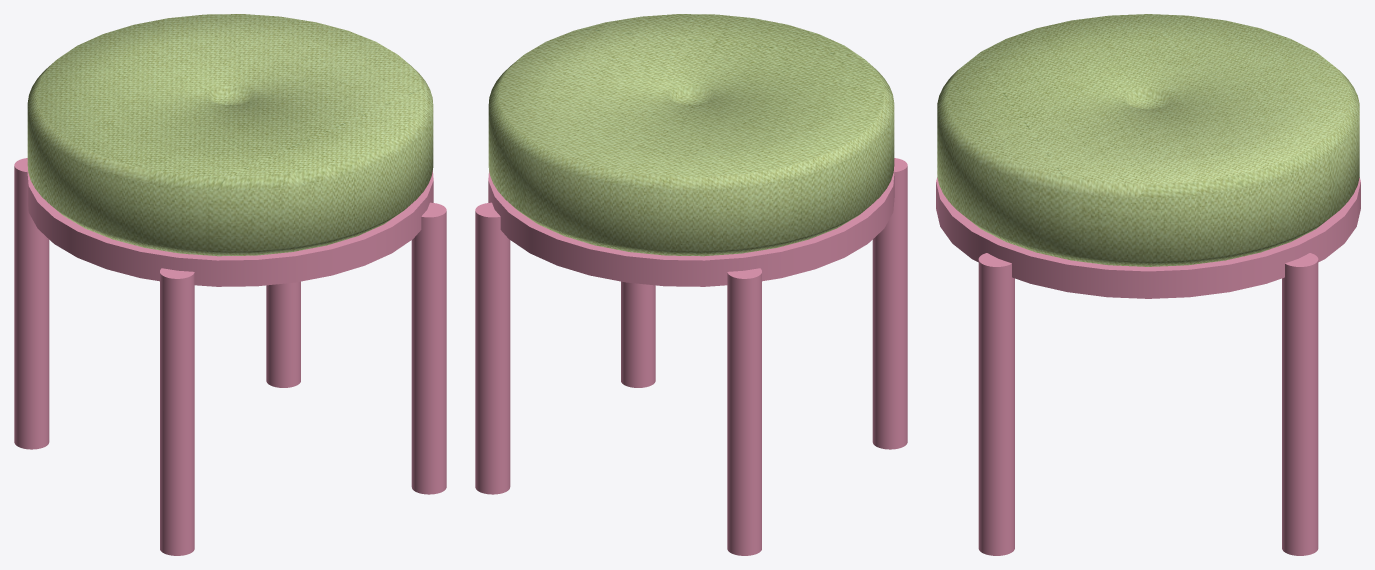
File: furniture_seating_210051.glb
The picture shows the model from 3 angles, left to right: view 1: azimuth 30°, elevation 25°; view 2: azimuth 150°, elevation 25°; view 3: azimuth 270°, elevation 25°; orthographic projection. The views are drawn at different scales.
Visible parts, largest first — view 1: furniture_seating_210051; view 2: furniture_seating_210051; view 3: furniture_seating_210051.
Boxes of the visible parts, left/top/right/bottom form: furniture_seating_210051: left=14, top=14, right=446, bottom=555; furniture_seating_210051: left=475, top=14, right=907, bottom=555; furniture_seating_210051: left=936, top=14, right=1360, bottom=555.
Bounding box in the file's own units: 0.336 × 0.336 × 0.336.
1 material, 1 textured.
